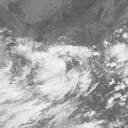cyclone: (33, 42, 97, 103)
